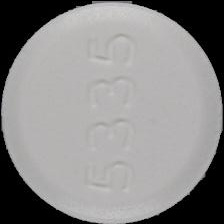0615-0675: (0, 0, 224, 224)
